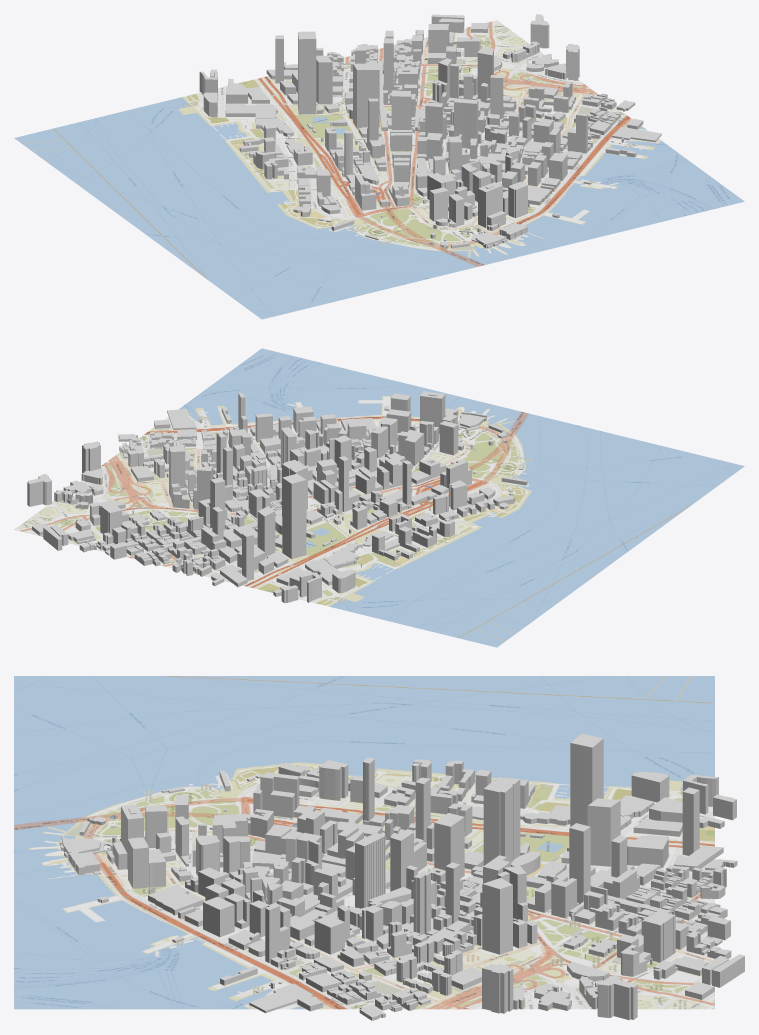
The model's file is map_park.glb.
3 views of the same model, one above another, from view 1: azimuth 30°, elevation 25°; view 2: azimuth 150°, elevation 25°; view 3: azimuth 270°, elevation 25° (orthographic). The views are drawn at different scales.
Parts seen in each view (by area): view 1: Object_3, Object_2; view 2: Object_3, Object_2; view 3: Object_3, Object_2.
Part boxes in pixels (<box>): Object_3: <box>14,20,744,319</box>; Object_2: <box>199,14,661,248</box>; Object_3: <box>14,348,744,647</box>; Object_2: <box>27,391,527,603</box>; Object_3: <box>14,676,714,1009</box>; Object_2: <box>59,733,744,1020</box>.
Bounding box in the file's own units: 2848 × 410 × 2551.
Materials: 2 (1 with a texture image).
